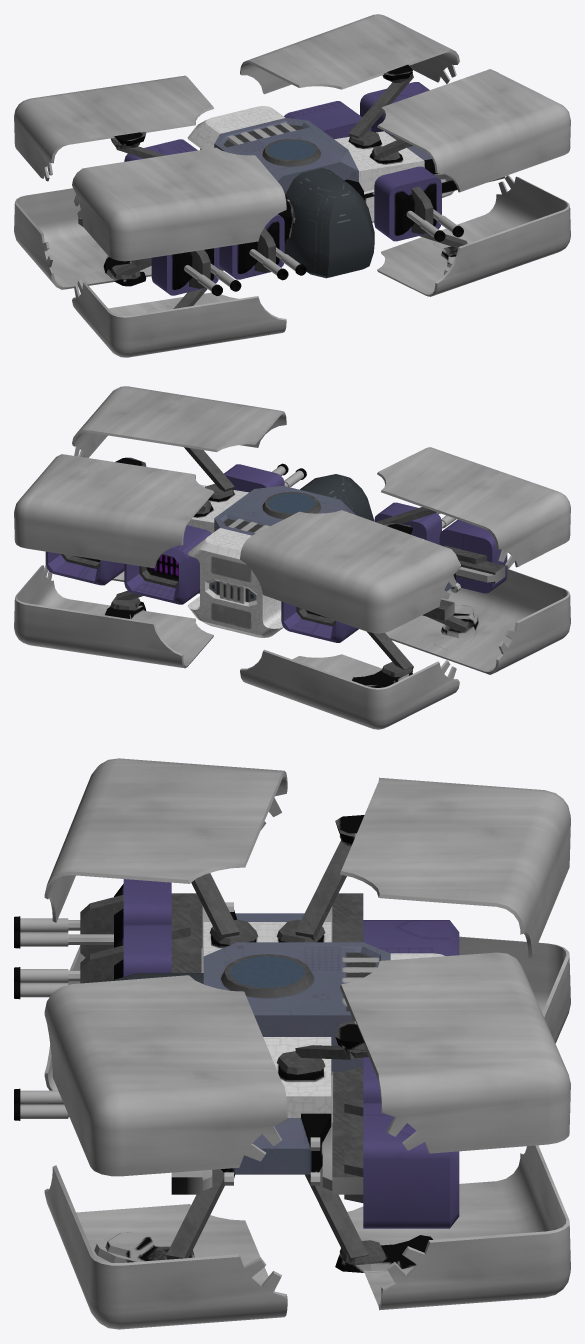
The model's file is dalton.obj.
The picture shows the model from 3 angles, top to bottom: view 1: azimuth 30°, elevation 25°; view 2: azimuth 150°, elevation 25°; view 3: azimuth 270°, elevation 25°; orthographic projection. The views are drawn at different scales.
Parts seen in each view (by area): view 1: MeshLP_Cube.015; view 2: MeshLP_Cube.015; view 3: MeshLP_Cube.015.
Boxes of the visible parts, x1=… form: MeshLP_Cube.015: x1=14, y1=14, x2=570, y2=357; MeshLP_Cube.015: x1=14, y1=386, x2=570, y2=729; MeshLP_Cube.015: x1=14, y1=758, x2=570, y2=1329.
Size of the model in its own units: 8.76 by 2.7 by 5.8.
Materials: 1 (1 with a texture image).
